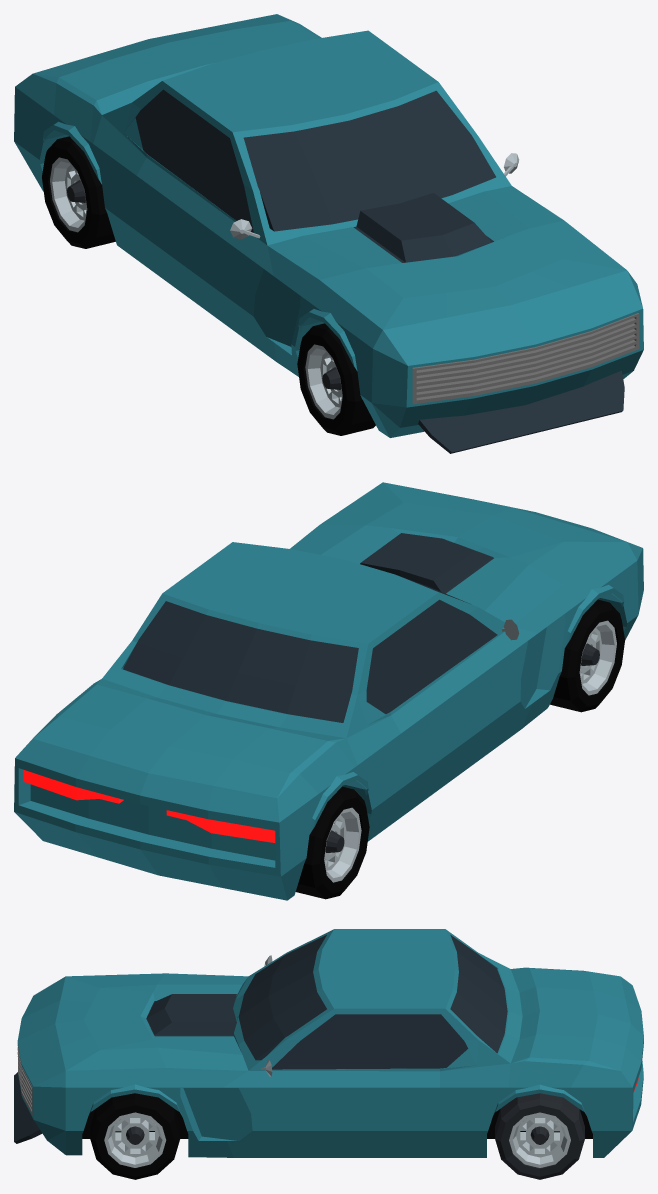
Rendered from car-showroom.glb.
3 views of the same model, one above another, from view 1: azimuth 30°, elevation 25°; view 2: azimuth 150°, elevation 25°; view 3: azimuth 270°, elevation 25° (orthographic). The views are drawn at different scales.
Visible parts, largest first — view 1: Body, Glass, Dark, Grill, Cube.012, Cube.015, Cube.011, Cube.016, Cube.006; view 2: Body, Glass, Dark, Cube.012, Cube.015, Cube.020, Cube.011, Cube.016; view 3: Body, Glass, Dark, Cube.008, Cube.019, Cube.009, Cube.018, Cube.007, Grill.
Boxes of the visible parts, x1=… form: Body: x1=14, y1=14, x2=643, y2=437; Glass: x1=135, y1=89, x2=495, y2=232; Dark: x1=354, y1=193, x2=624, y2=453; Grill: x1=412, y1=313, x2=639, y2=404; Cube.012: x1=297, y1=323, x2=375, y2=435; Cube.015: x1=42, y1=136, x2=115, y2=248; Cube.011: x1=305, y1=344, x2=342, y2=419; Cube.016: x1=50, y1=157, x2=87, y2=232; Cube.006: x1=230, y1=153, x2=519, y2=239; Body: x1=14, y1=482, x2=643, y2=900; Glass: x1=123, y1=577, x2=497, y2=722; Dark: x1=360, y1=533, x2=493, y2=593; Cube.012: x1=550, y1=599, x2=624, y2=712; Cube.015: x1=295, y1=786, x2=369, y2=899; Cube.020: x1=23, y1=769, x2=275, y2=842; Cube.011: x1=579, y1=620, x2=616, y2=695; Cube.016: x1=324, y1=807, x2=361, y2=882; Body: x1=17, y1=929, x2=643, y2=1157; Glass: x1=238, y1=935, x2=507, y2=1069; Dark: x1=14, y1=994, x2=237, y2=1143; Cube.008: x1=90, y1=1093, x2=180, y2=1179; Cube.019: x1=495, y1=1093, x2=584, y2=1179; Cube.009: x1=104, y1=1112, x2=166, y2=1167; Cube.018: x1=509, y1=1112, x2=570, y2=1167; Cube.007: x1=82, y1=1109, x2=592, y2=1138; Grill: x1=17, y1=1044, x2=32, y2=1115.
Bounding box in the file's own units: 5.51 × 3.65 × 13.11.
